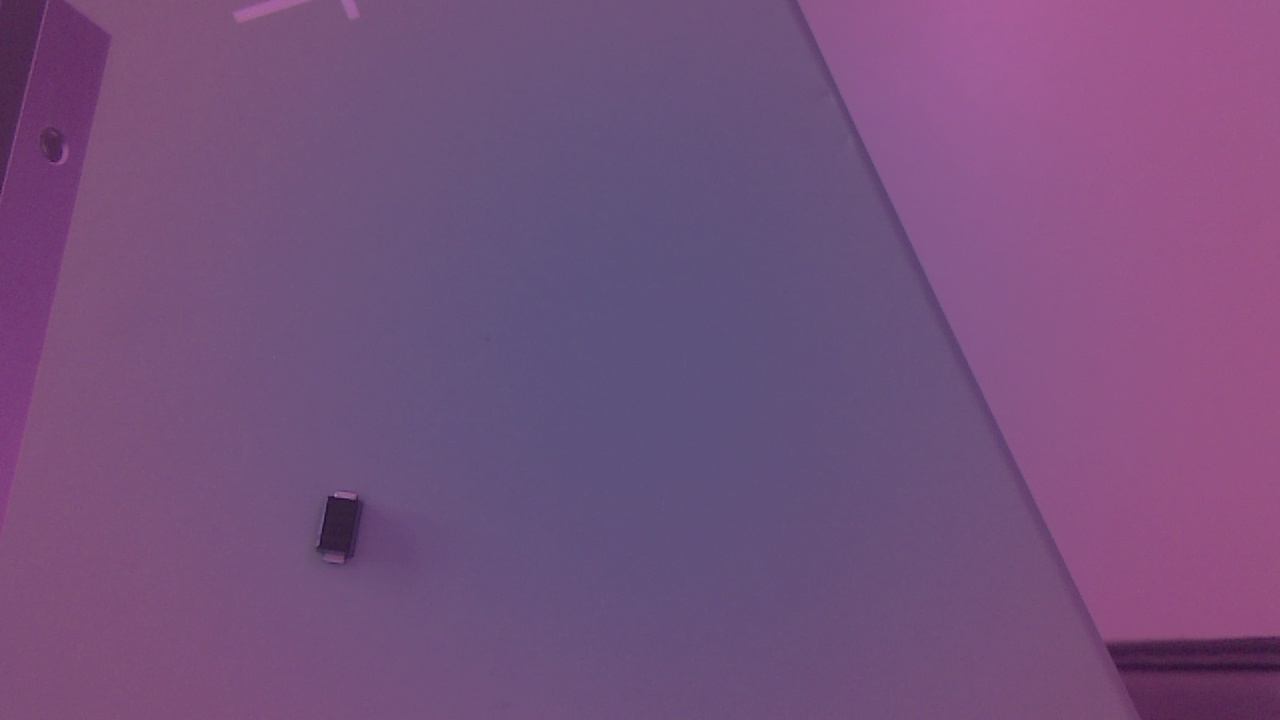Diode: (316, 490, 377, 575)
